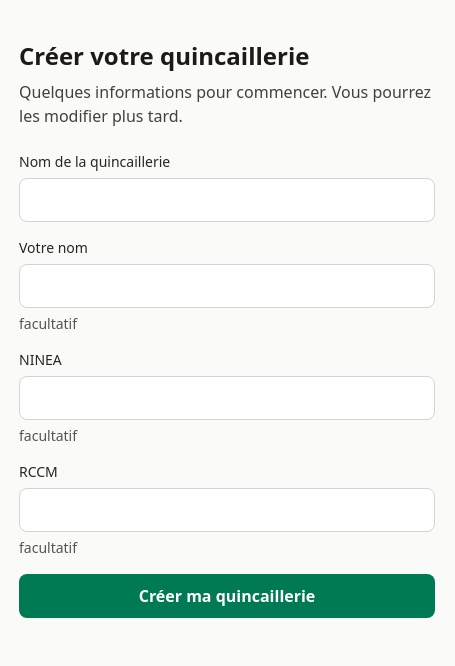
it: SignupScreen › translates API errors
This screenshot has width=455, height=666.
In the field labelled "Nom de la quincaillerie": (227, 200) [32,180,422,220], type "Trop"
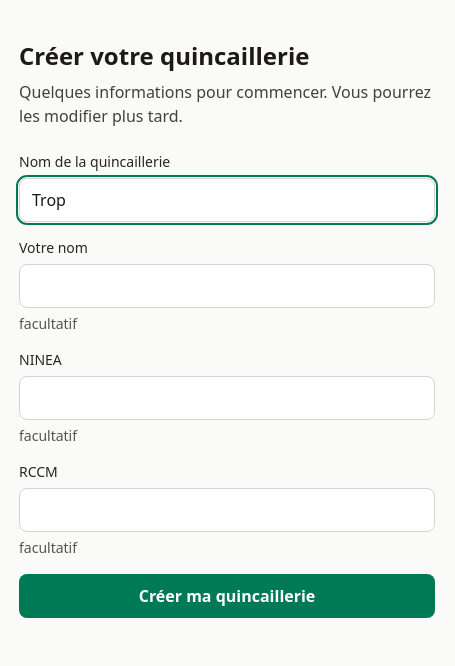
Click the button "Créer ma quincaillerie": (227, 596) [19,574,435,618]
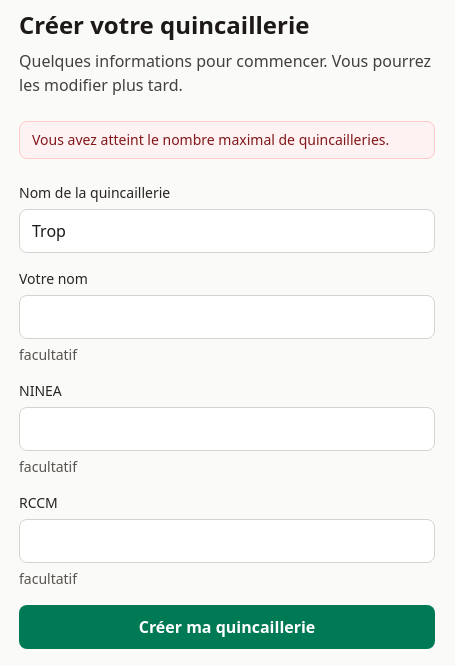
Expected: the button "Créer ma quincaillerie" is enabled, [19,605,435,649]
Expected: the message shows "nombre maximal", [32,130,389,149]
